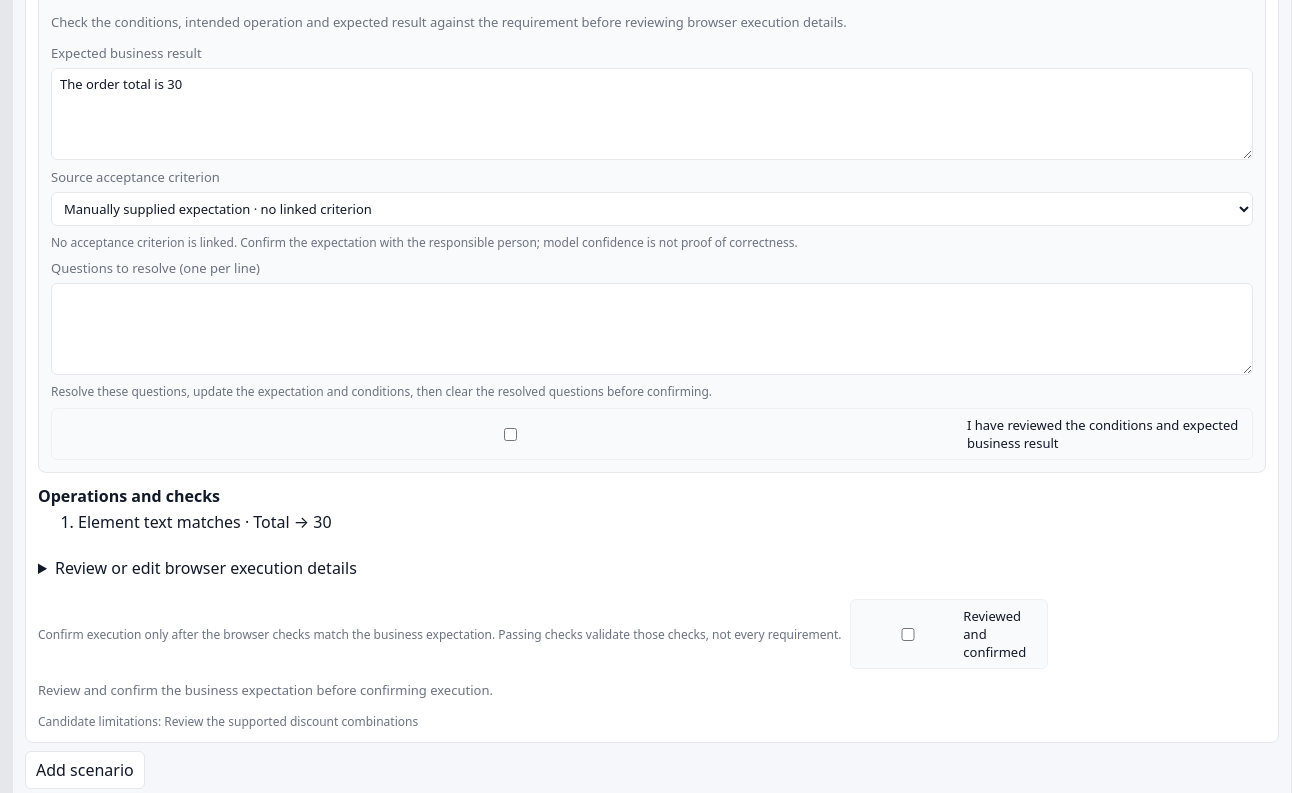
business expectation review › shows current readiness instead of obsolete candidate validation codes
(page scrolled)
Check: the text "Review the supported discount combinations" is shown, box [164,712,418,730]
Click the checkbox named "I have reviewed the conditions and expected business result 1". click: (510, 434)
box: [65,428,956,440]
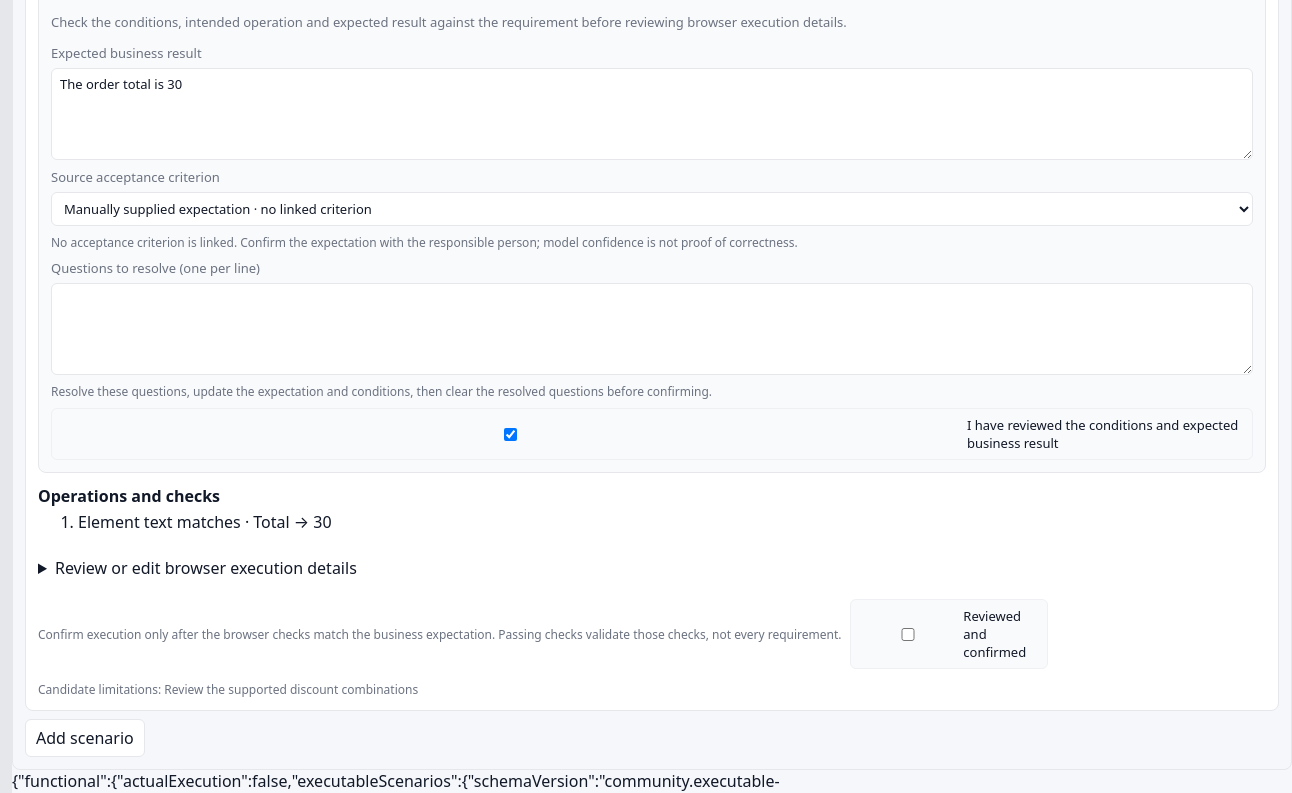
Check: the text "Review and confirm the business expectation before confirming execution." is gone
